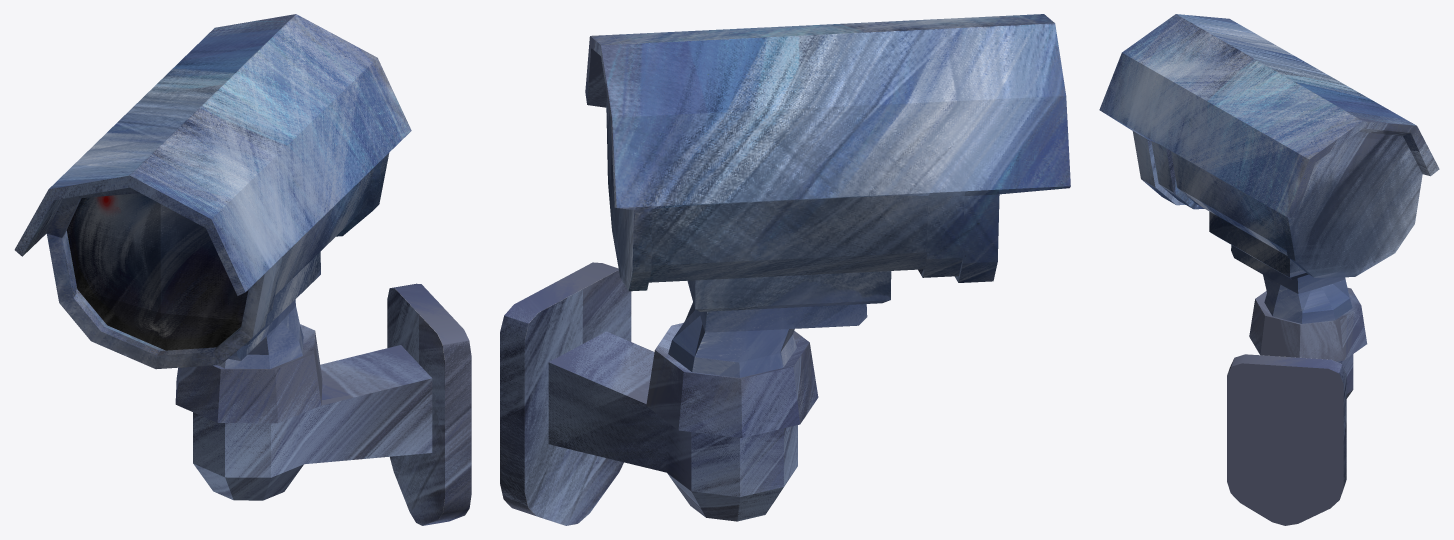
Rendered from kamera114.fbx.
The picture shows the model from 3 angles, left to right: view 1: azimuth 30°, elevation 25°; view 2: azimuth 150°, elevation 25°; view 3: azimuth 270°, elevation 25°; orthographic projection. The views are drawn at different scales.
Parts seen in each view (by area): view 1: Kamera_vrsek, Kamera_spodek; view 2: Kamera_vrsek, Kamera_spodek; view 3: Kamera_vrsek, Kamera_spodek.
Boxes of the visible parts, x1=… form: Kamera_vrsek: x1=14, y1=14, x2=411, y2=369; Kamera_spodek: x1=175, y1=283, x2=471, y2=525; Kamera_vrsek: x1=585, y1=14, x2=1070, y2=377; Kamera_spodek: x1=500, y1=262, x2=818, y2=525; Kamera_vrsek: x1=1099, y1=14, x2=1439, y2=323; Kamera_spodek: x1=1227, y1=288, x2=1367, y2=525.
Bounding box in the file's own units: 83.63 × 85.09 × 70.93.
